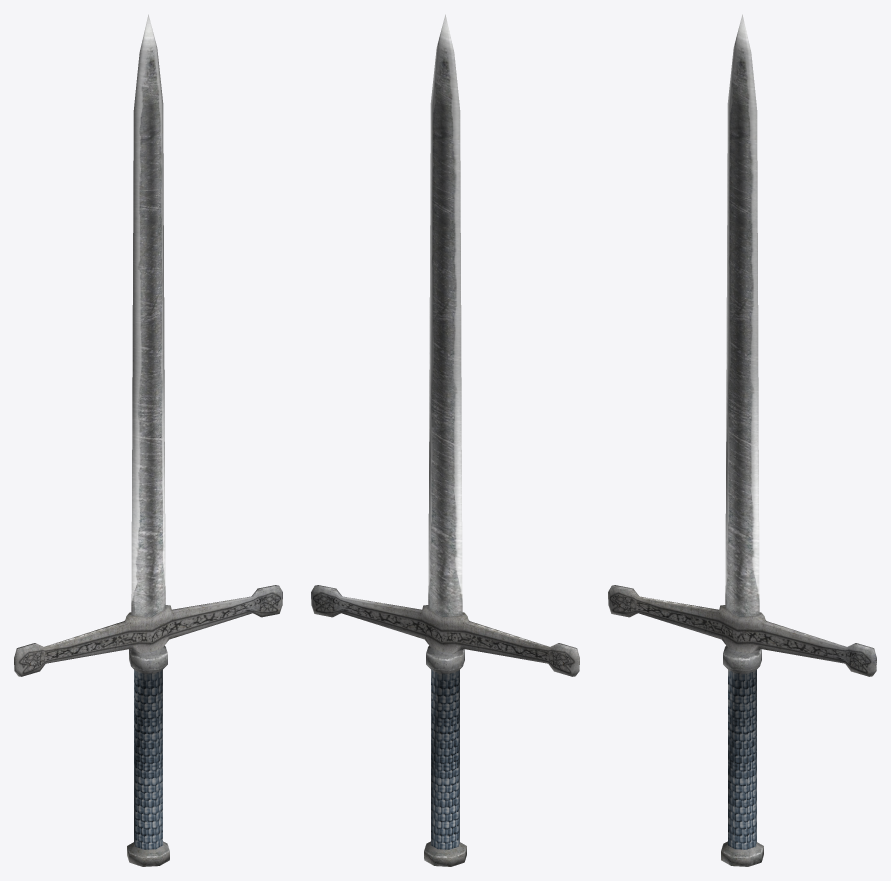
The model's file is sword_01.fbx.
3 renders of one model, left to right at view 1: azimuth 30°, elevation 25°; view 2: azimuth 150°, elevation 25°; view 3: azimuth 330°, elevation 25°, orthographic.
Visible parts, largest first — view 1: sword_01; view 2: sword_01; view 3: sword_01.
Part boxes in pixels (x1=…): sword_01: x1=14, y1=14, x2=282, y2=866; sword_01: x1=311, y1=14, x2=579, y2=866; sword_01: x1=608, y1=14, x2=876, y2=866.
Size of the model in its own units: 5.1 by 15.28 by 0.725.
